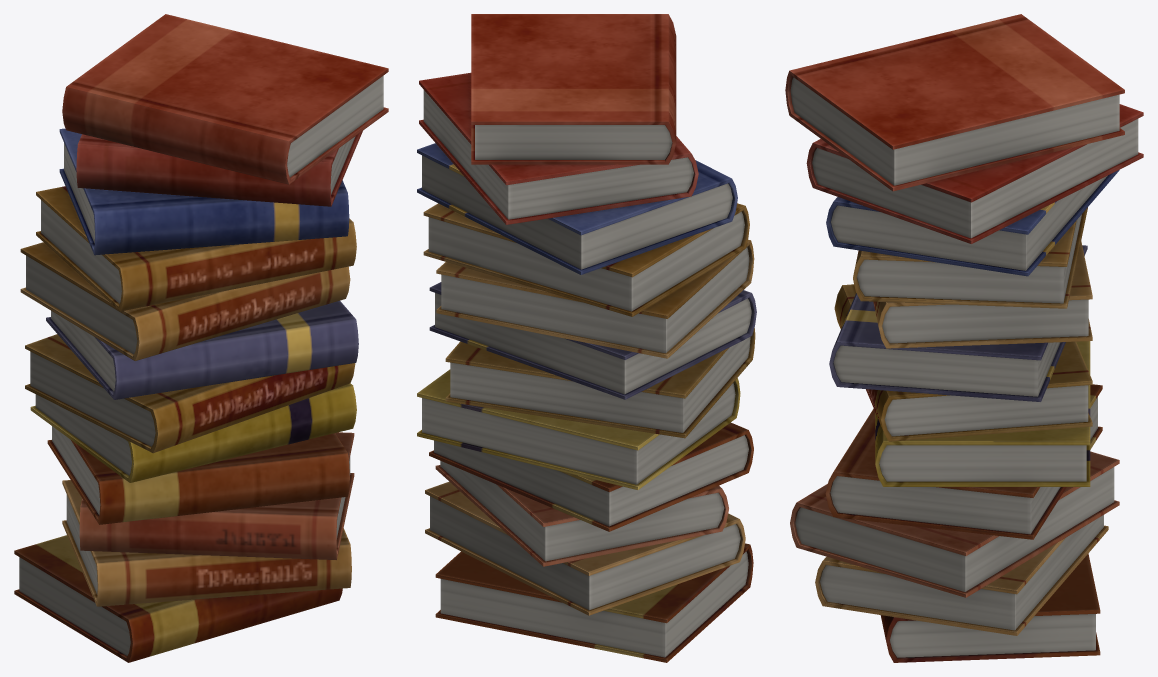
Rendered from DS_WizLab_Clut_BookPileC.fbx.
3 renders of one model, left to right at view 1: azimuth 30°, elevation 25°; view 2: azimuth 150°, elevation 25°; view 3: azimuth 270°, elevation 25°, orthographic. The views are drawn at different scales.
Parts seen in each view (by area): view 1: DS_WizLab_Clut_BookPileC; view 2: DS_WizLab_Clut_BookPileC; view 3: DS_WizLab_Clut_BookPileC.
Boxes of the visible parts, left/top/right/bottom form: DS_WizLab_Clut_BookPileC: left=14, top=14, right=388, bottom=662; DS_WizLab_Clut_BookPileC: left=417, top=14, right=756, bottom=662; DS_WizLab_Clut_BookPileC: left=785, top=14, right=1143, bottom=662.
Bounding box in the file's own units: 48.04 × 78.37 × 47.01.
1 material, 1 textured.
